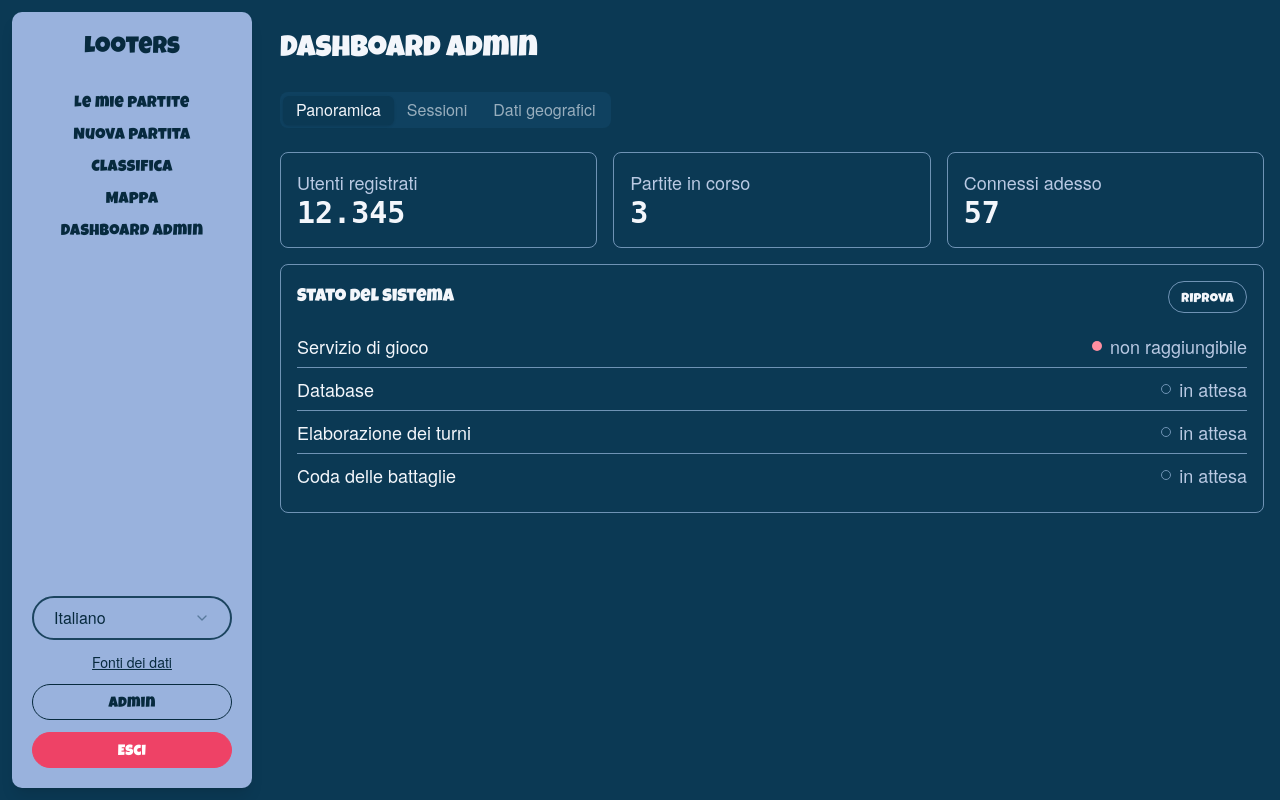
Test: admin dashboard › lists the sessions and revokes one after confirmation
Click the tab "Sessioni".
click(437, 110)  # box top-left (394, 96), bottom-right (480, 124)
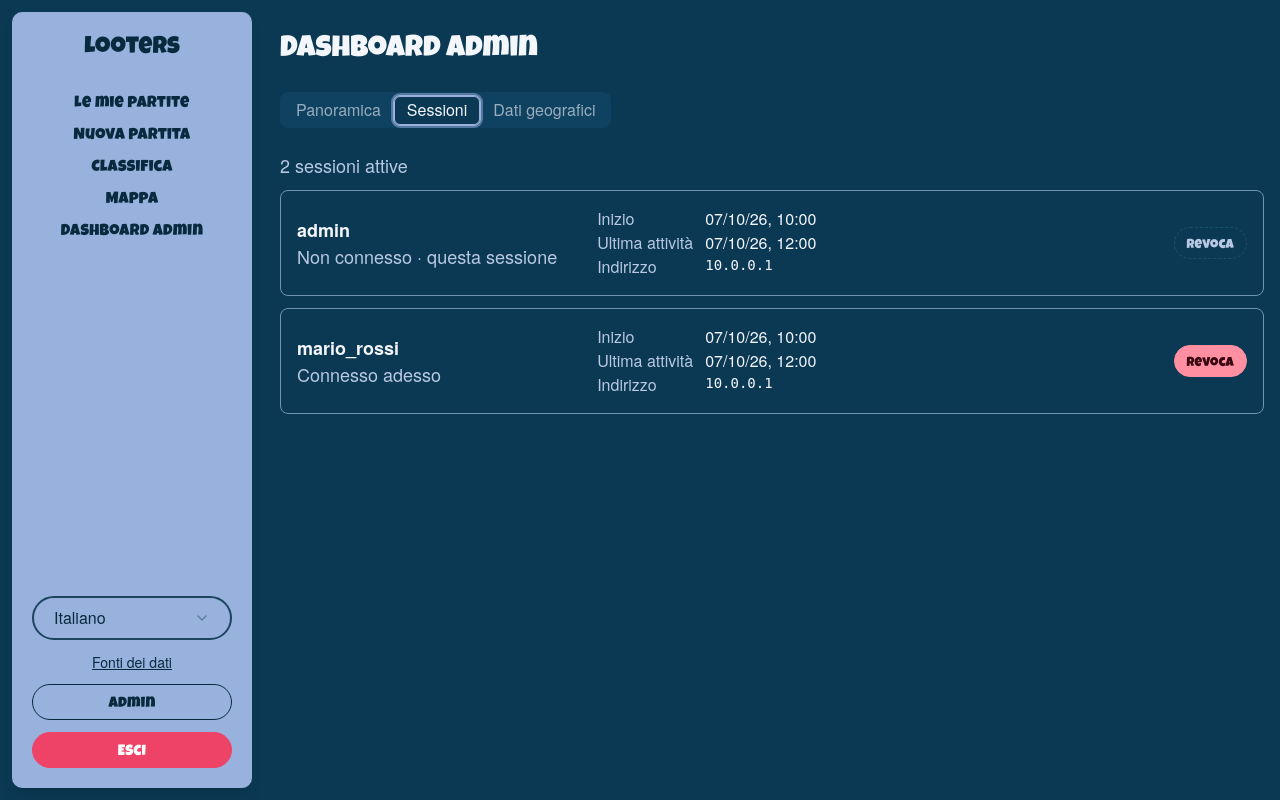
Expected: the text "2 sessioni attive" is shown, top-left (280, 152), bottom-right (408, 178)
Expected: the button "Revoca" in the row of "· questa sessione" is disabled, top-left (1174, 227), bottom-right (1247, 259)
Click the button "Revoca" in the row of "Connesso adesso".
click(1210, 361)  # box top-left (1174, 345), bottom-right (1247, 377)
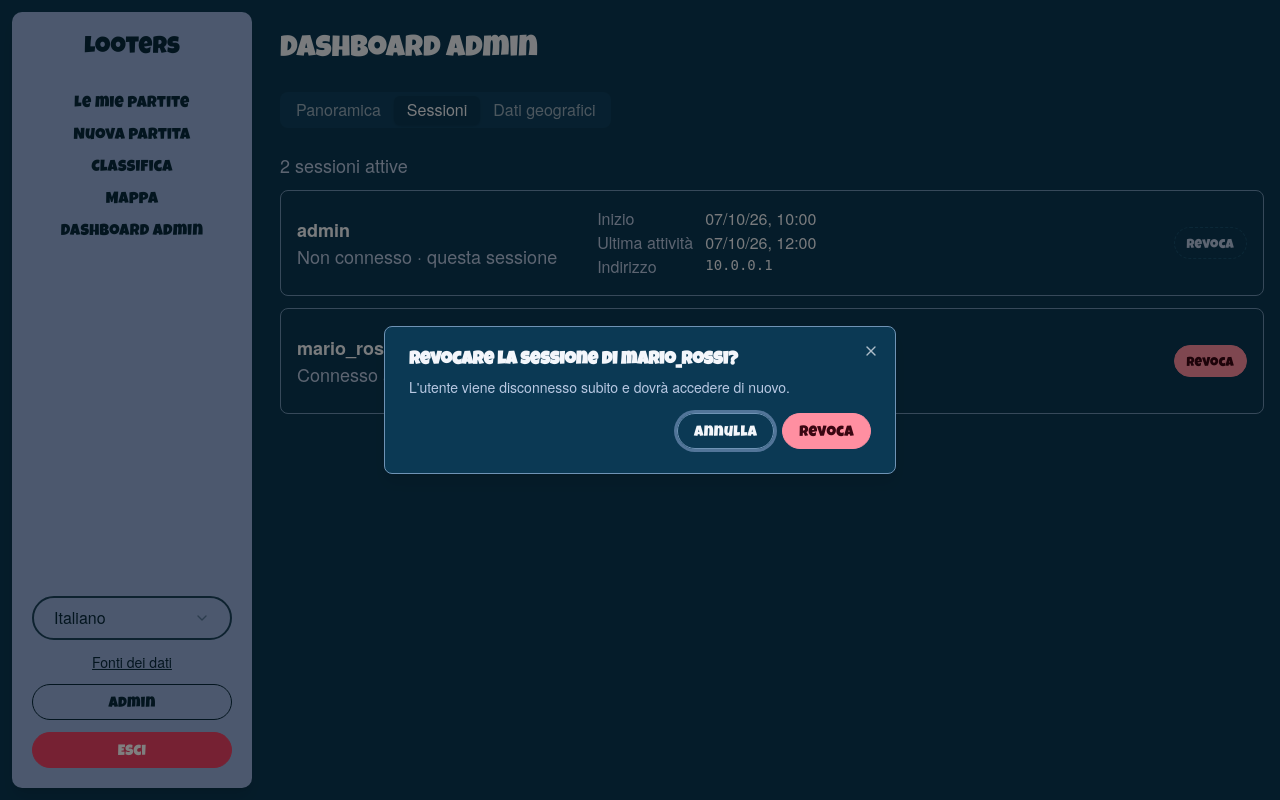
Expected: the dialog shows "Revocare la sessione di mario_rossi?", top-left (409, 351), bottom-right (738, 369)
Click the button "Revoca".
click(827, 431)  # box top-left (782, 413), bottom-right (871, 449)
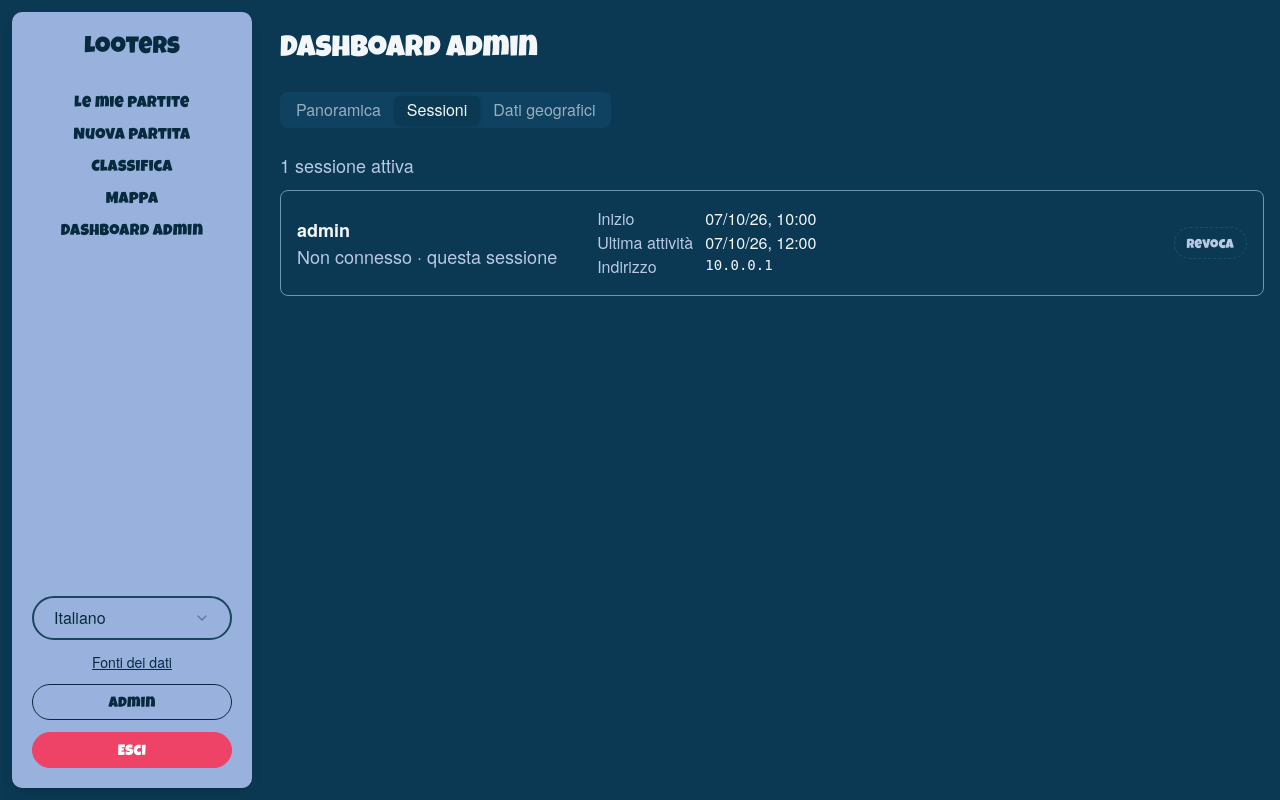
Expected: the text "1 sessione attiva" is shown, top-left (280, 152), bottom-right (414, 178)
